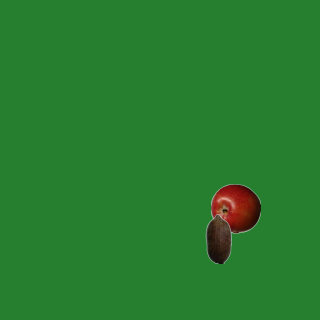Apple Braeburn: (210, 183, 260, 233)
Nut Pecan: (193, 213, 243, 263)
